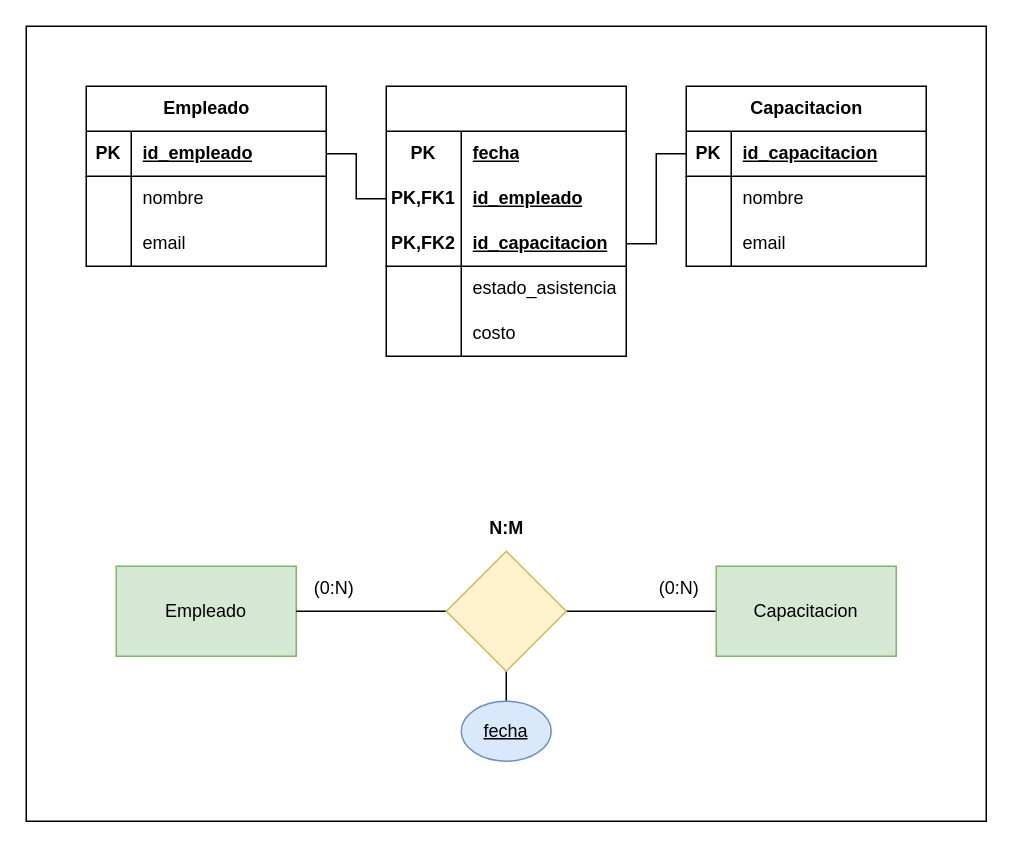
Image size: 1013x848. Some labels were removed from this diagram. Each missing label, with the box of its shape:
asistir: (445, 550, 566, 671)
Empleado_Capacitacion: (385, 85, 626, 356)
